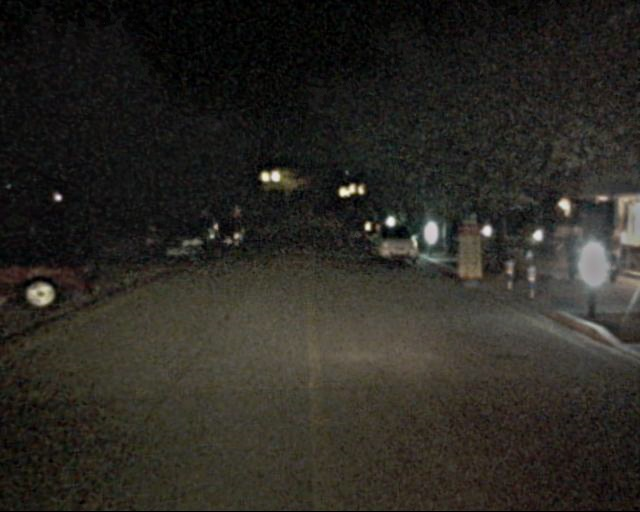person: (559, 223, 586, 289), (597, 224, 623, 288)
